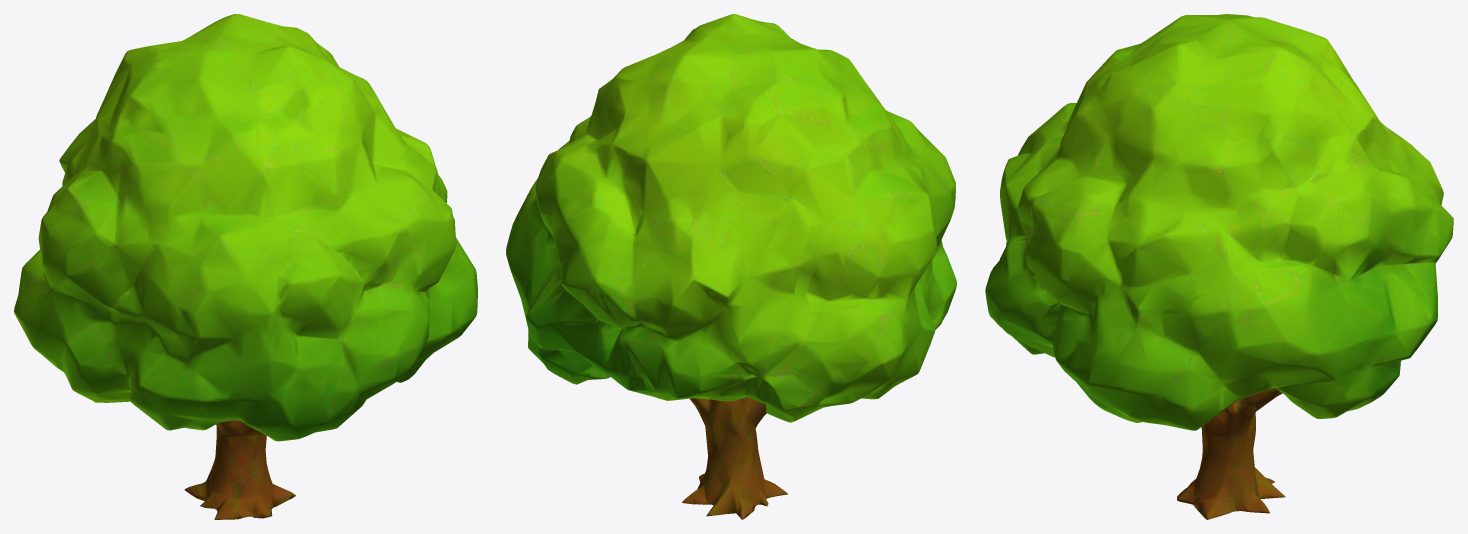
File: tree1-round.glb
The picture shows the model from 3 angles, left to right: view 1: azimuth 30°, elevation 25°; view 2: azimuth 150°, elevation 25°; view 3: azimuth 270°, elevation 25°; orthographic projection.
Bounding box in the file's own units: 1.67 × 1.9 × 1.73.
1 material, 1 textured.
